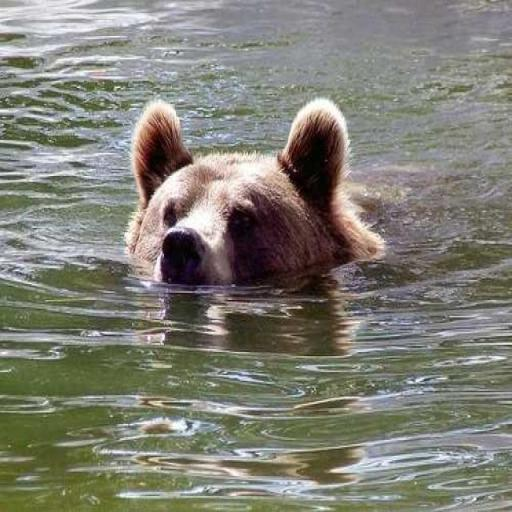Bear: (124, 95, 386, 289)
